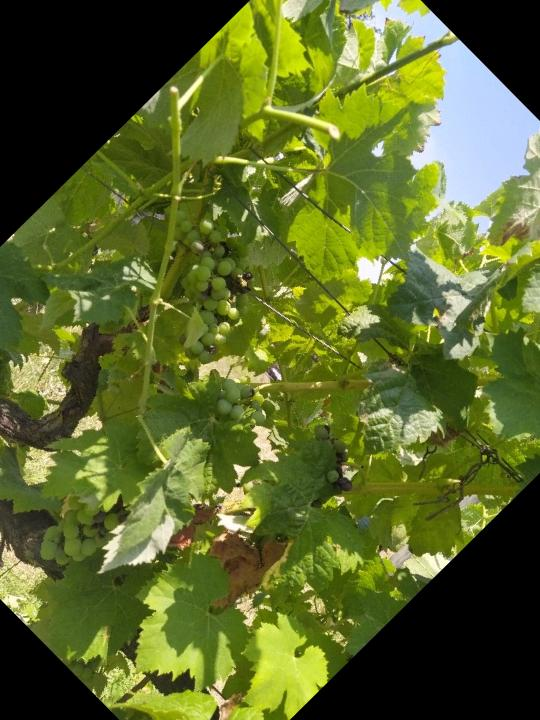grape: (120, 198, 290, 367)
